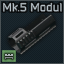KRISS Vector Mk.5 modular rail: (0, 0, 64, 64)
